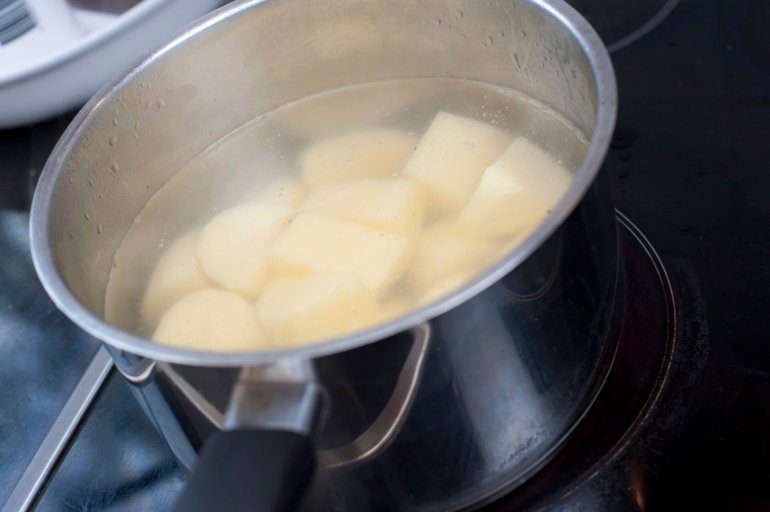boiled potatoes: (165, 127, 501, 329)
